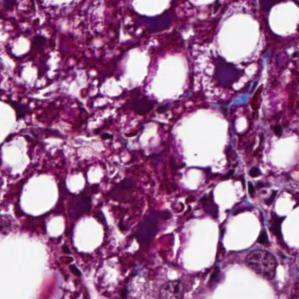inflammation: (201, 51, 250, 104), (127, 199, 168, 252)
